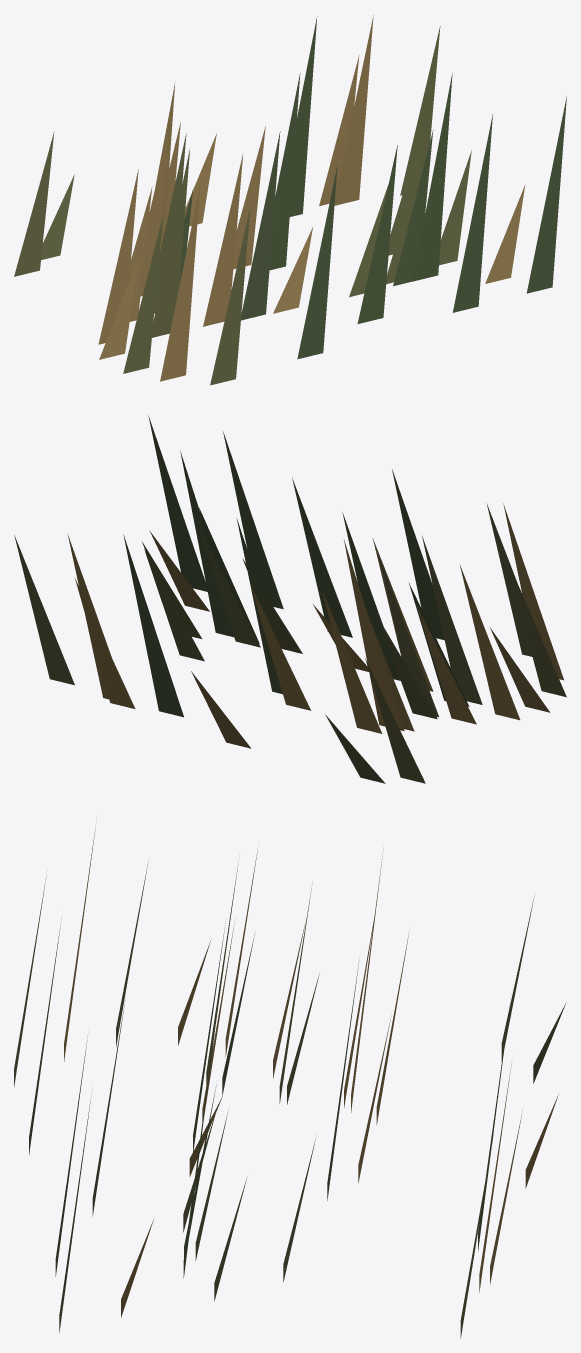
Rendered from grass.glb.
3 renders of one model, top to bottom at view 1: azimuth 30°, elevation 25°; view 2: azimuth 150°, elevation 25°; view 3: azimuth 270°, elevation 25°, orthographic. The views are drawn at different scales.
Visible parts, largest first — view 1: Blades; view 2: Blades; view 3: Blades.
Boxes of the visible parts, box(x1,y1,x2,y2) form: Blades: box(14, 15, 566, 385); Blades: box(14, 415, 566, 783); Blades: box(14, 818, 566, 1338).
Size of the model in its own units: 0.9257 by 0.3851 by 0.654.
3 materials, 3 textured.
